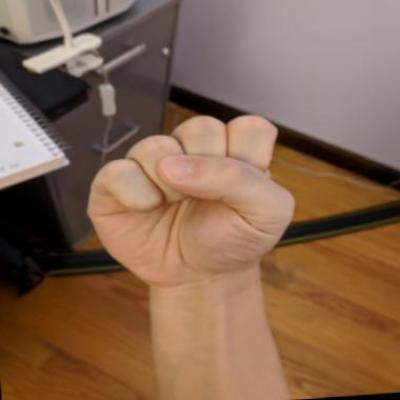hand: (73, 107, 306, 296)
